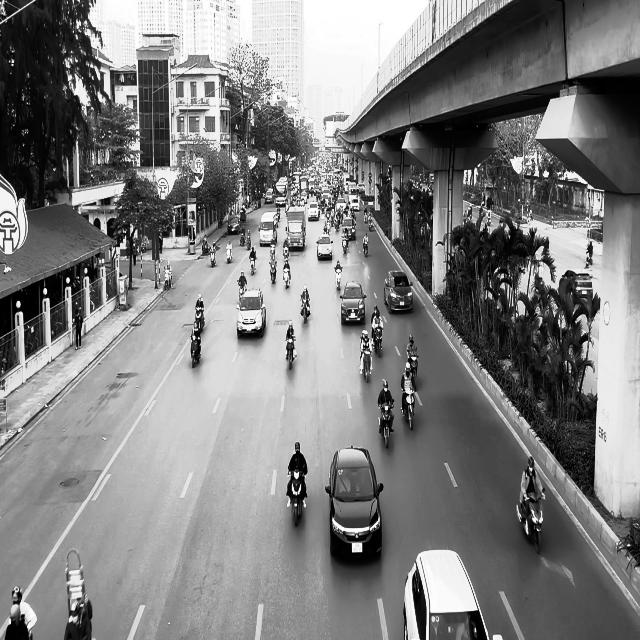car: (403, 548, 490, 640), (325, 445, 384, 559), (236, 288, 266, 338), (384, 270, 413, 314), (560, 269, 593, 307), (339, 281, 367, 325), (316, 234, 333, 260), (228, 215, 240, 234)
motorbike: (516, 487, 545, 554), (287, 468, 307, 526), (378, 399, 394, 448), (400, 384, 416, 430), (360, 346, 372, 382), (285, 336, 297, 369), (190, 333, 201, 367), (300, 294, 310, 324), (372, 328, 382, 357), (195, 308, 205, 331), (163, 266, 172, 290), (282, 262, 290, 288), (269, 259, 277, 283), (238, 279, 246, 301), (335, 265, 342, 290), (249, 252, 256, 275), (342, 231, 348, 253), (226, 242, 232, 262), (210, 248, 216, 266), (363, 236, 368, 256)
